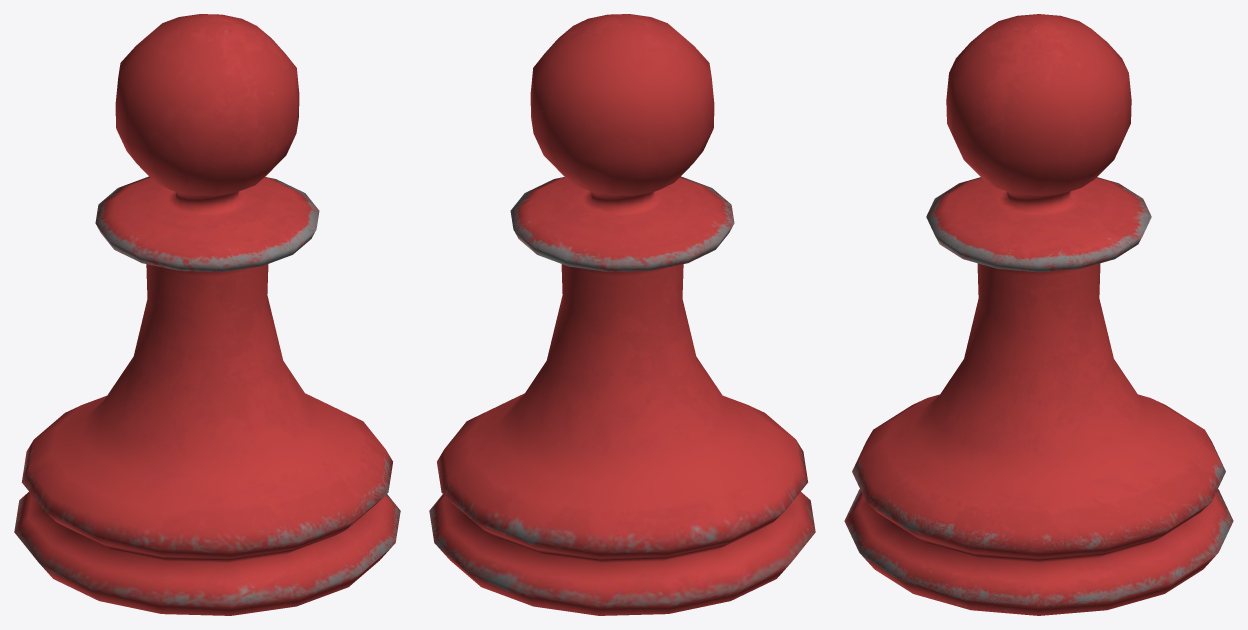
File: pawn.glb
3 renders of one model, left to right at view 1: azimuth 30°, elevation 25°; view 2: azimuth 150°, elevation 25°; view 3: azimuth 270°, elevation 25°, orthographic.
Visible parts, largest first — view 1: pawn.b.001; view 2: pawn.b.001; view 3: pawn.b.001.
Boxes of the visible parts, x1,y1,x2,y2 form: pawn.b.001: [14, 14, 400, 615]; pawn.b.001: [429, 14, 815, 615]; pawn.b.001: [844, 14, 1233, 615].
Bounding box in the file's own units: 1.13 × 1.71 × 1.13.
Materials: 1 (1 with a texture image).
